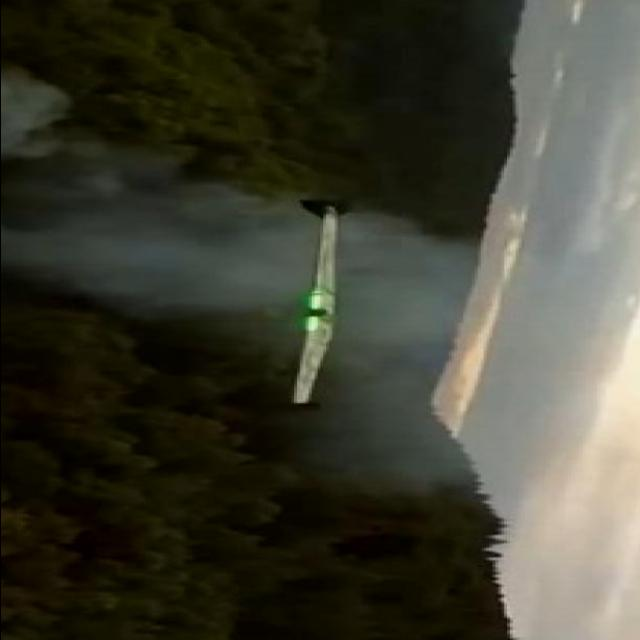plane: (288, 198, 345, 406)
